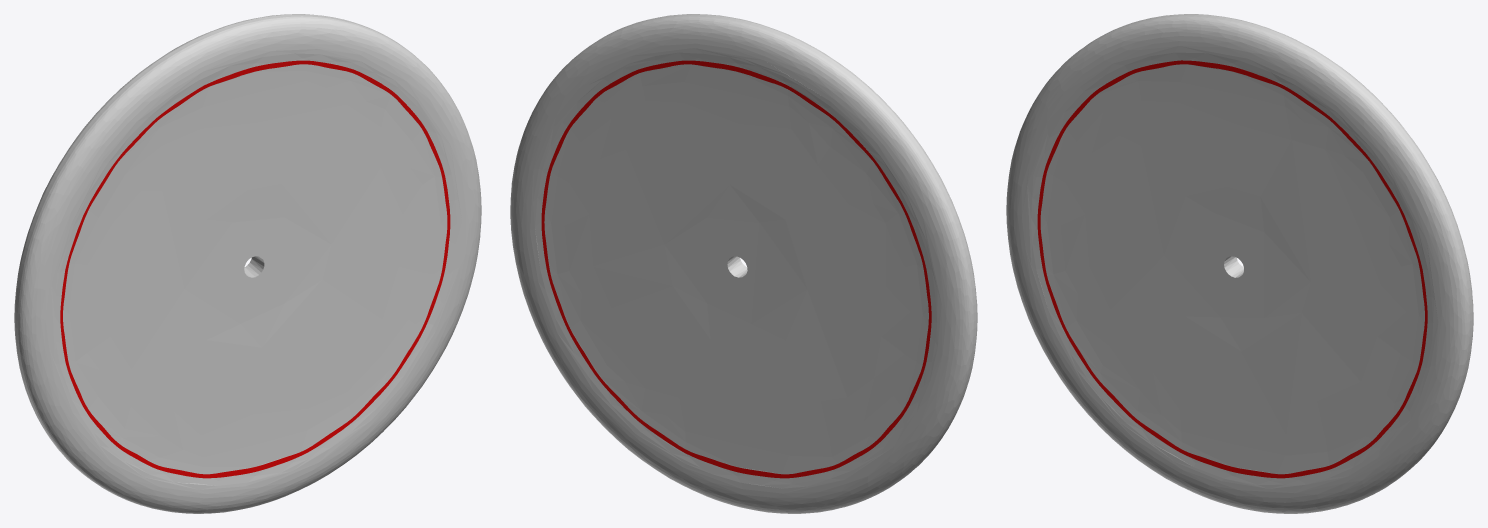
File: bikeWheel.glb
3 views of the same model, side by side, from view 1: azimuth 30°, elevation 25°; view 2: azimuth 150°, elevation 25°; view 3: azimuth 330°, elevation 25° (orthographic).
Parts seen in each view (by area): view 1: wheel; view 2: wheel; view 3: wheel.
Part boxes in pixels (x1=…): wheel: x1=14, y1=14, x2=481, y2=513; wheel: x1=510, y1=14, x2=977, y2=513; wheel: x1=1006, y1=14, x2=1473, y2=513.
Size of the model in its own units: 1.44 by 1.44 by 0.0857.
